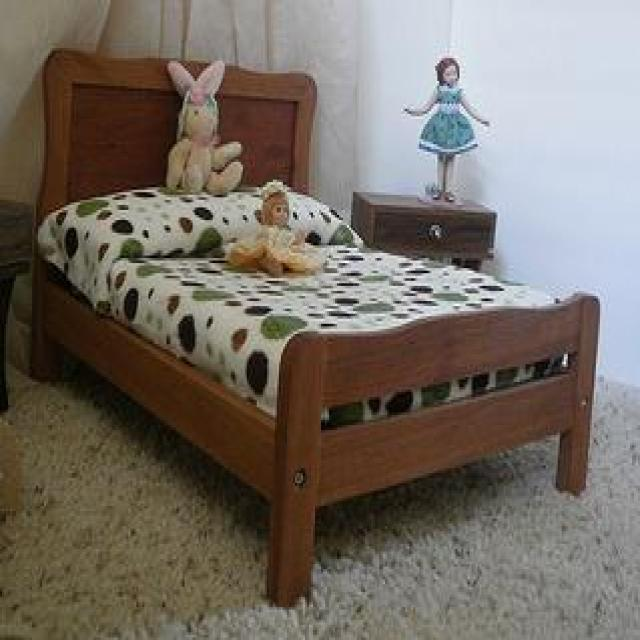bed: (28, 46, 600, 607)
